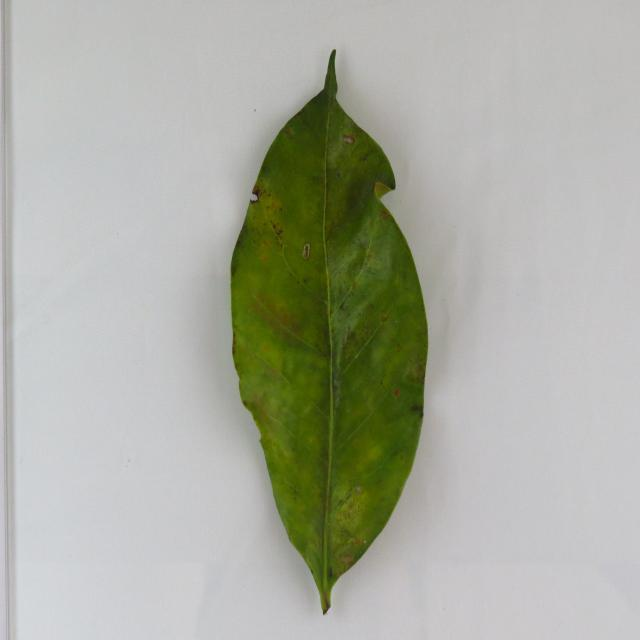DeficienciaNutricional-Calcio: (231, 50, 428, 613)
